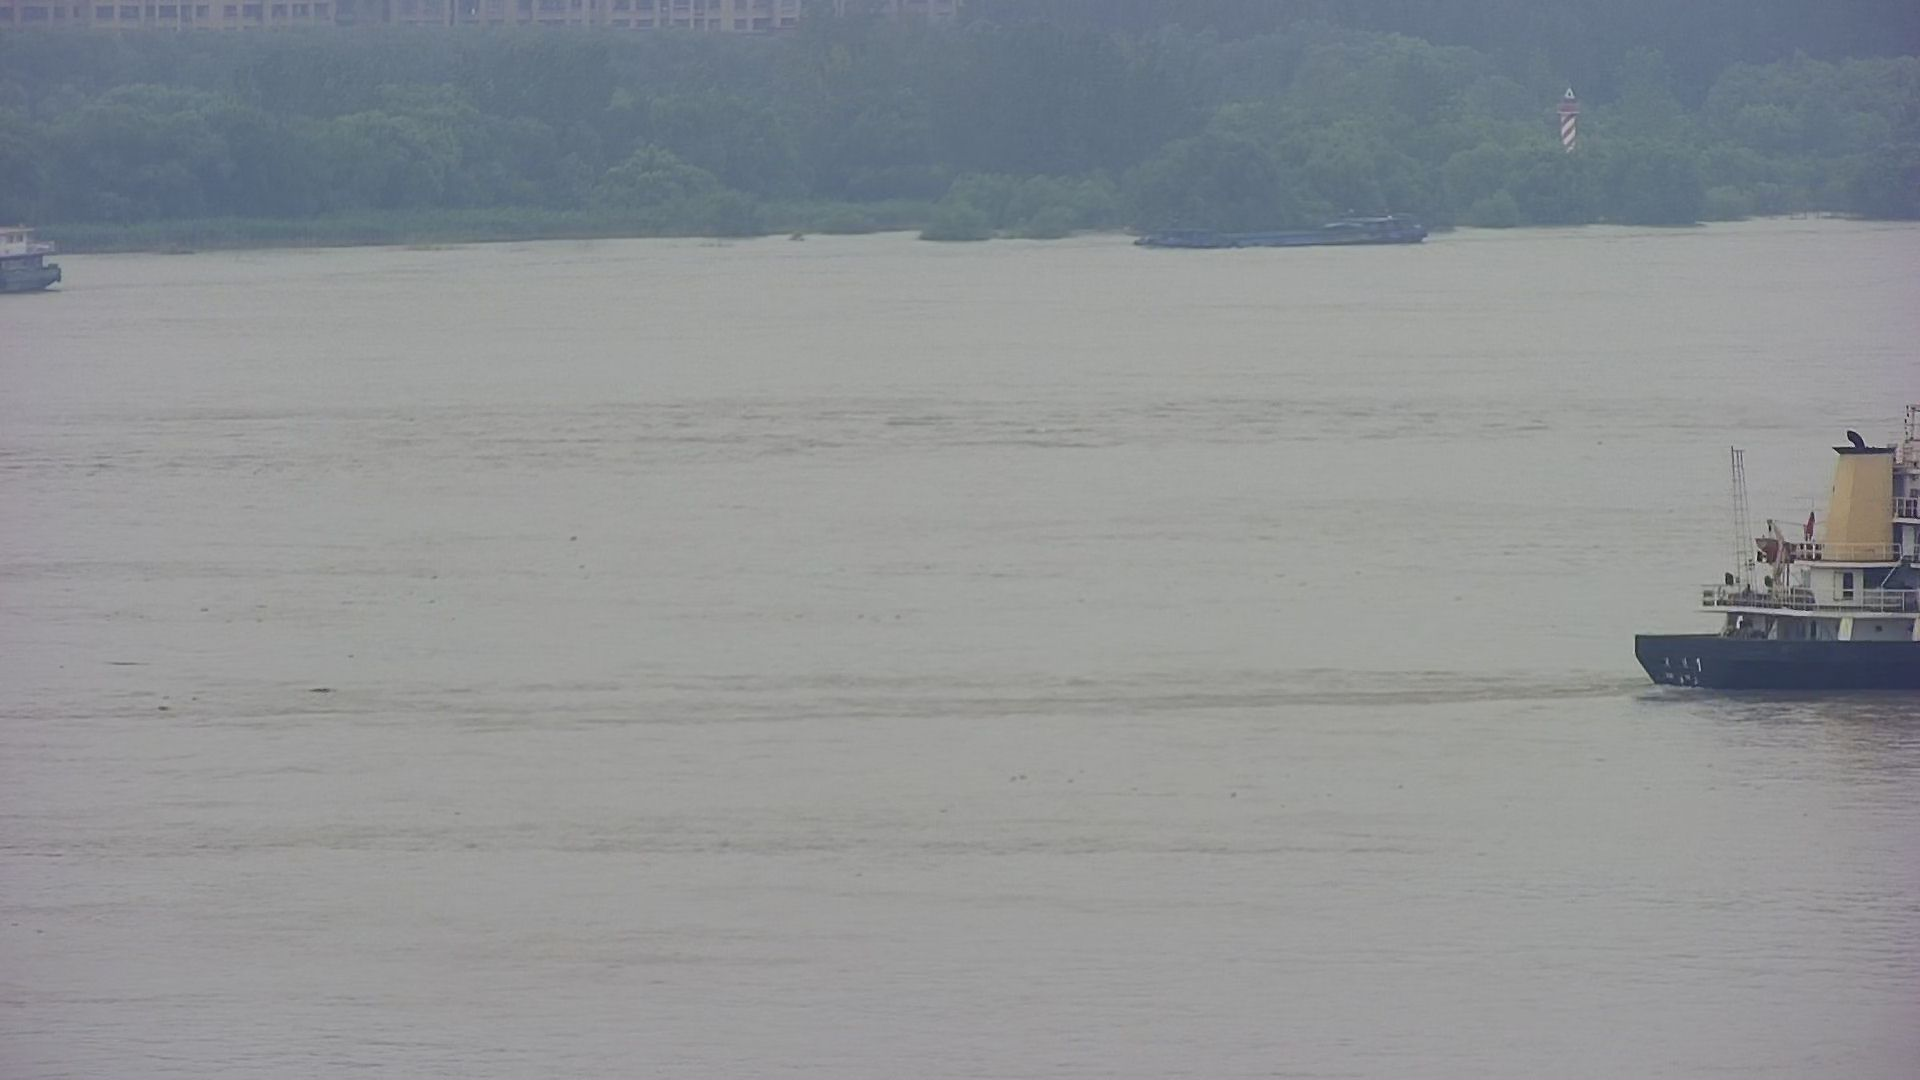boat: (1126, 191, 1451, 256)
ship: (1633, 384, 1920, 704)
